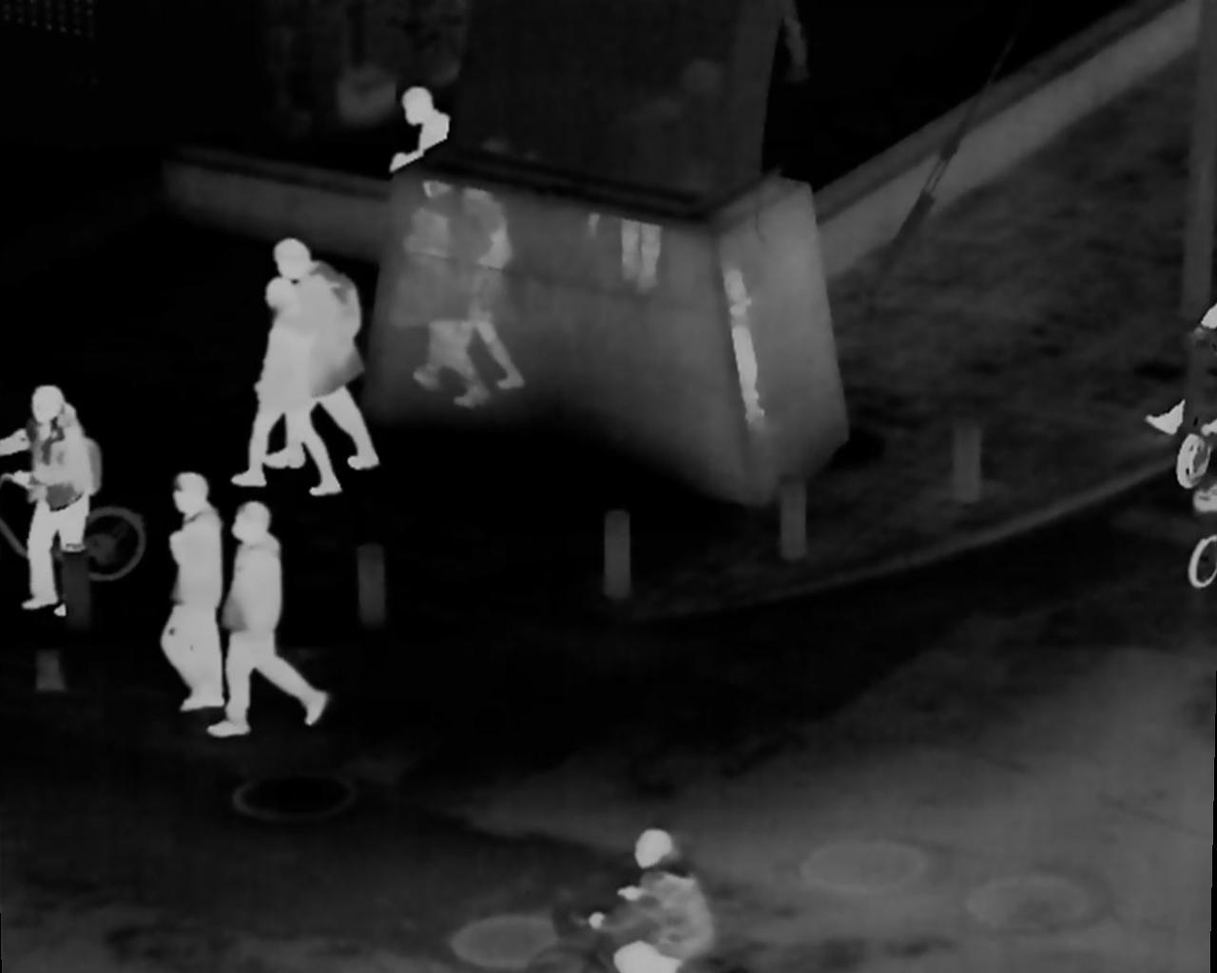person: (199, 505, 320, 748), (271, 237, 377, 467), (235, 280, 331, 490), (152, 467, 231, 710), (21, 385, 98, 622), (608, 819, 699, 973), (379, 85, 446, 172)
